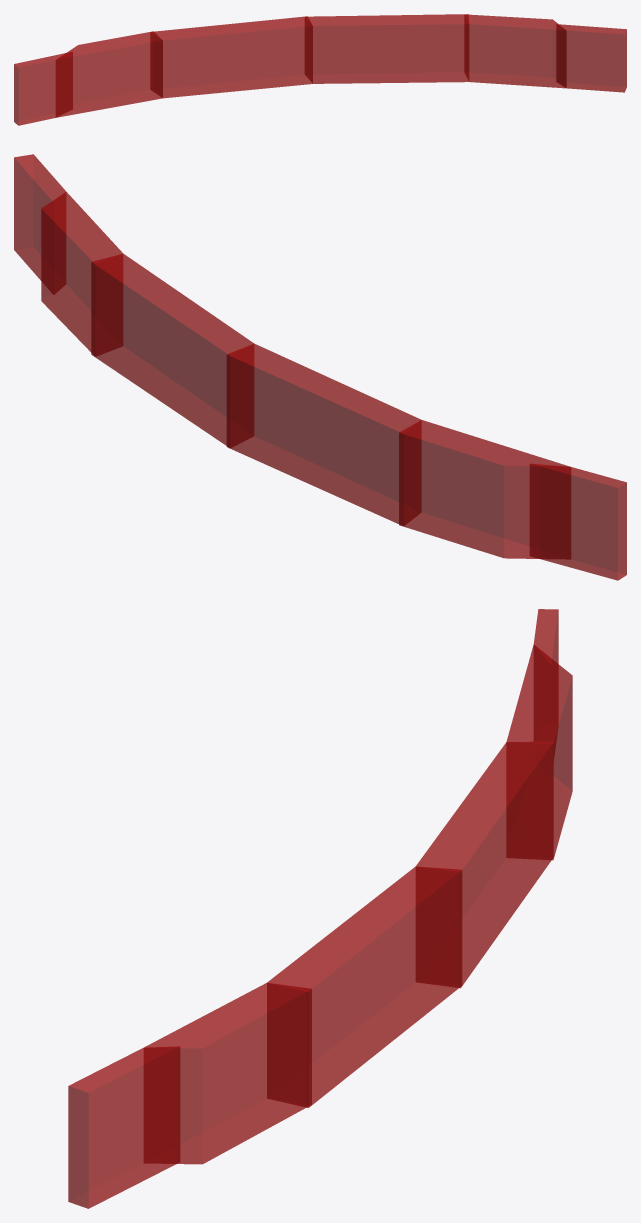
Rendered from SM_Prop_Barrier_Rail_D_Bend_04_Collision.fbx.
3 views of the same model, one above another, from view 1: azimuth 30°, elevation 25°; view 2: azimuth 150°, elevation 25°; view 3: azimuth 270°, elevation 25° (orthographic). The views are drawn at different scales.
Visible parts, largest first — view 1: SM_Prop_Barrier_Rail_D_Bend_04_Collision; view 2: SM_Prop_Barrier_Rail_D_Bend_04_Collision; view 3: SM_Prop_Barrier_Rail_D_Bend_04_Collision.
Part boxes in pixels (bbox=[...]): SM_Prop_Barrier_Rail_D_Bend_04_Collision: bbox=[14, 14, 626, 125]; SM_Prop_Barrier_Rail_D_Bend_04_Collision: bbox=[14, 154, 626, 580]; SM_Prop_Barrier_Rail_D_Bend_04_Collision: bbox=[68, 609, 572, 1208].
Size of the model in its own units: 981 by 110 by 432.
